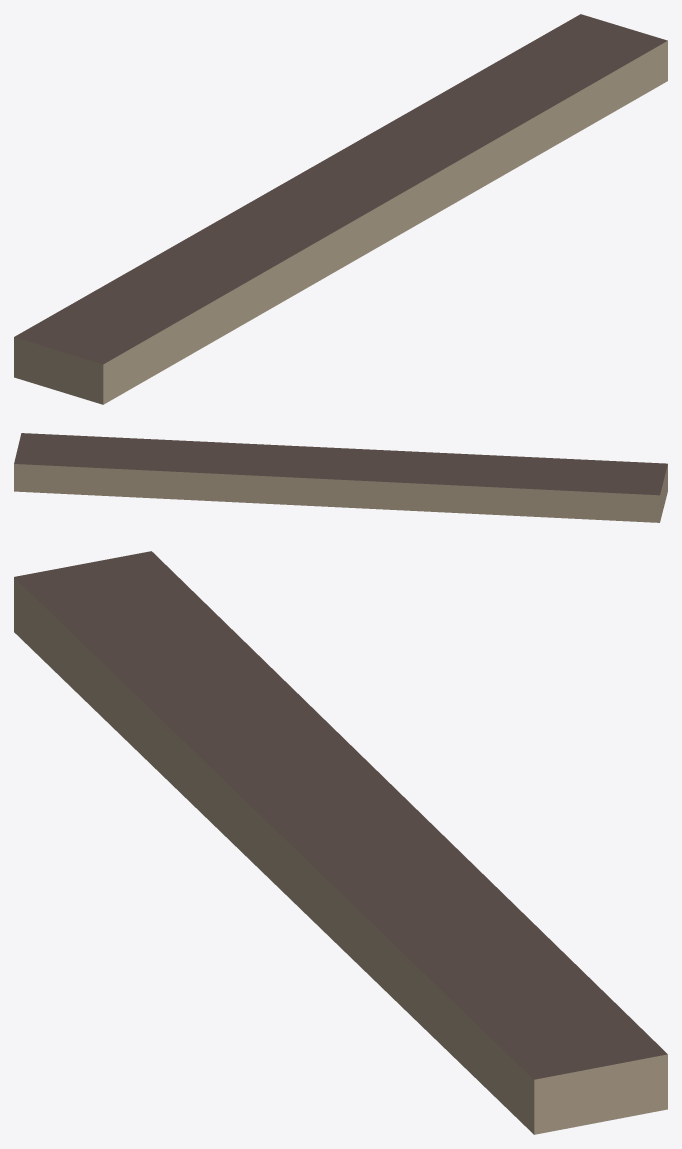
3 renders of one model, top to bottom at view 1: azimuth 30°, elevation 25°; view 2: azimuth 150°, elevation 25°; view 3: azimuth 270°, elevation 25°, orthographic. The views are drawn at different scales.
Visible parts, largest first — view 1: HP-w859086210; view 2: HP-w859086210; view 3: HP-w859086210.
Part boxes in pixels (<box>): HP-w859086210: <box>14,14,667,404</box>; HP-w859086210: <box>14,433,667,522</box>; HP-w859086210: <box>14,551,667,1134</box>.
Bounding box in the file's own units: 123 × 6 × 64.49.
